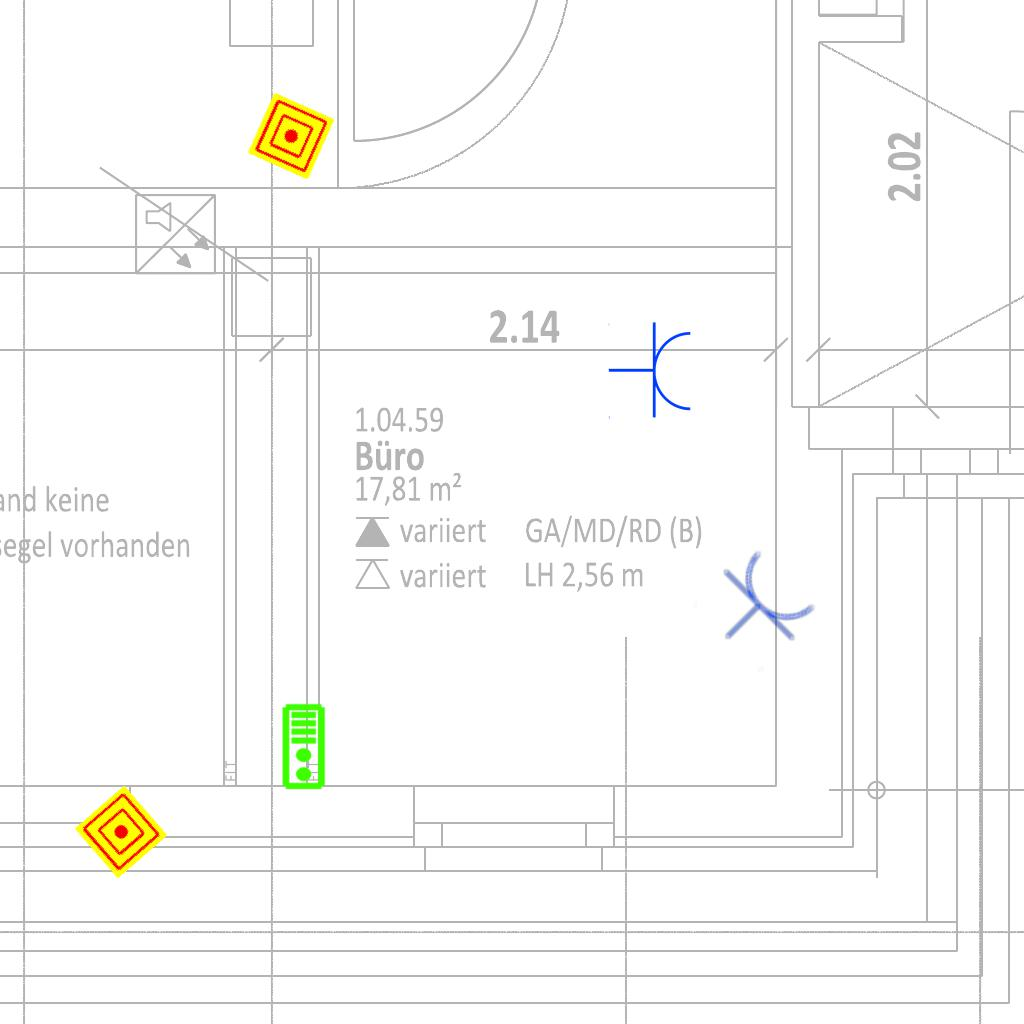Gegensprechanlage_mit_Video: (281, 703, 328, 791)
NAM-Nichtautomatischer_Melder: (74, 785, 168, 879), (247, 92, 335, 180)
Schukosteckdose_einfach: (691, 541, 825, 674), (608, 321, 695, 421)
